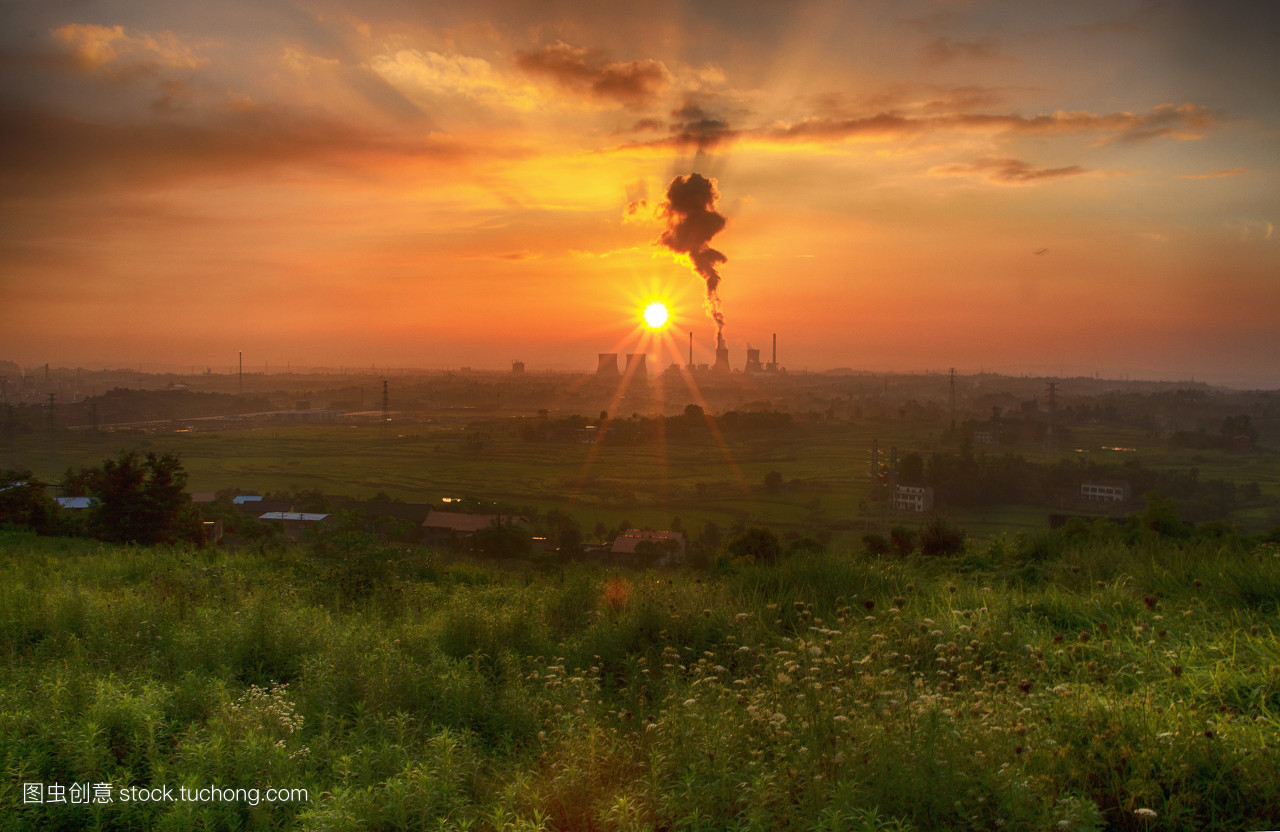dust: (654, 175, 741, 313)
